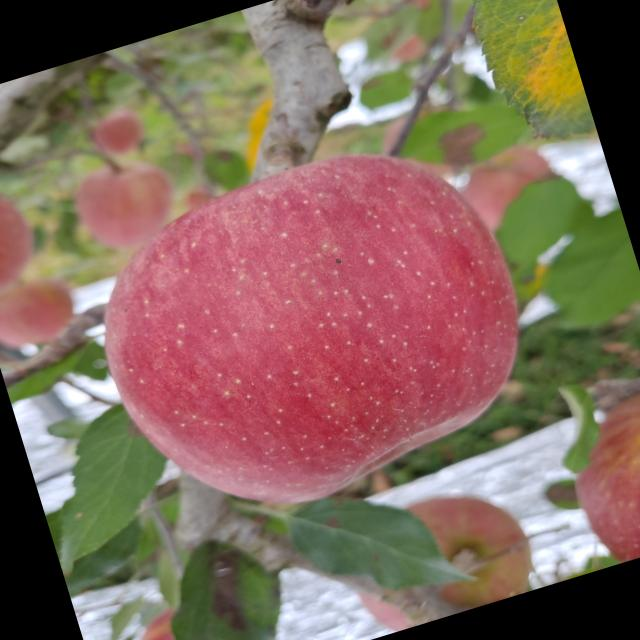fresh: (59, 104, 571, 558)
